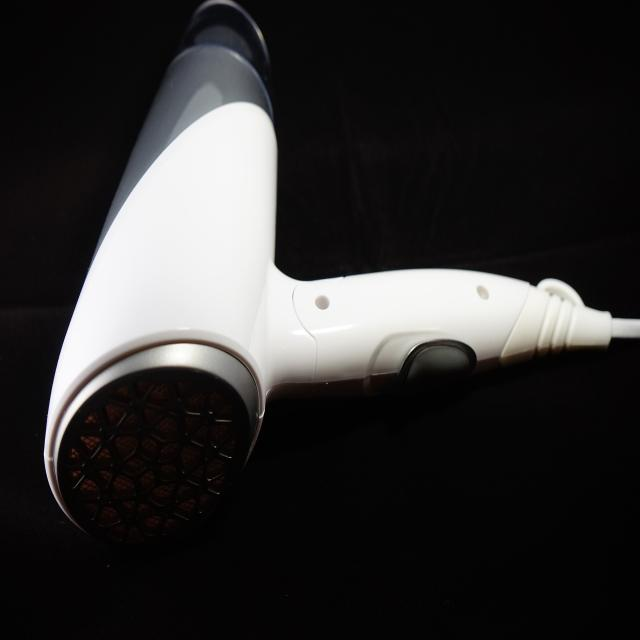dryer: (42, 0, 612, 547)
